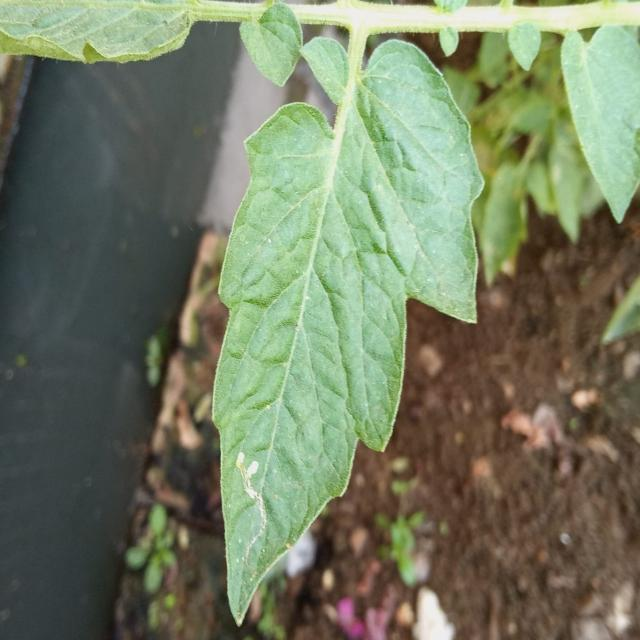Tuta absoluta: (234, 449, 272, 546)
